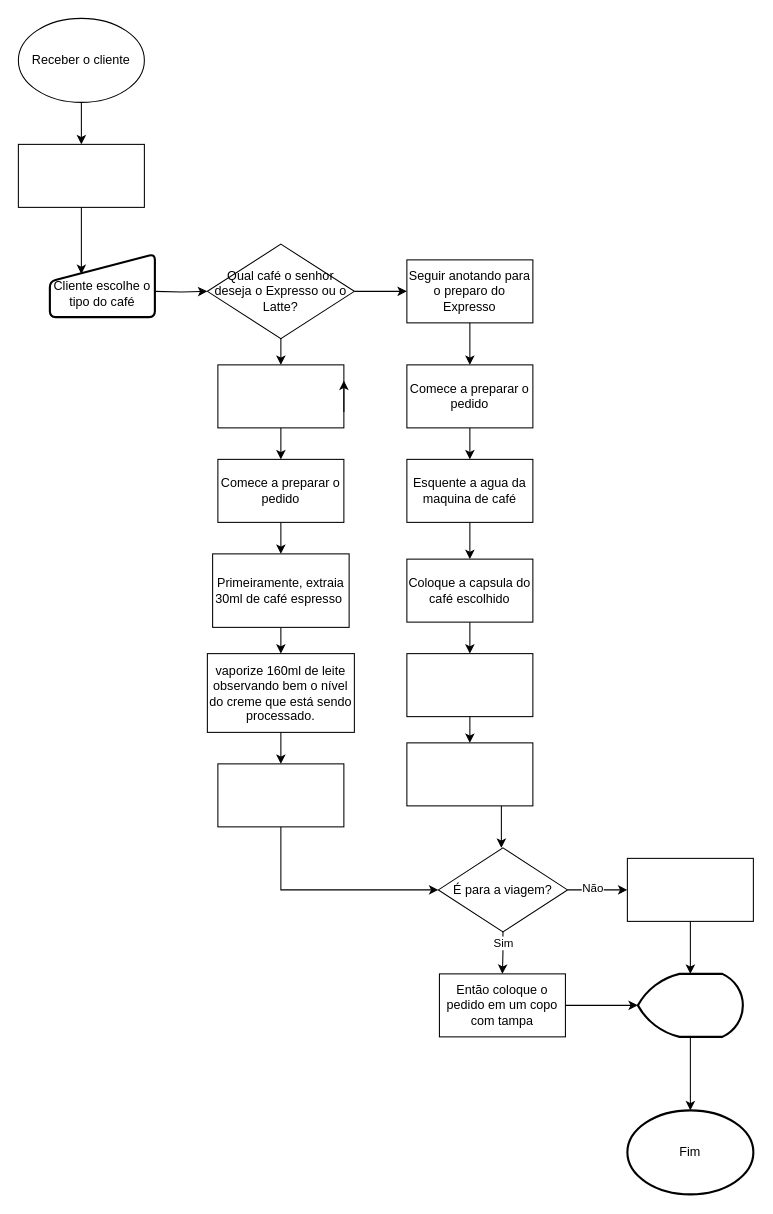
This 773x1214 diagram has some shape labels left out. Here are the shapes that lost their labels. From the top down, the centre of each, then its label:
the point at 80,175: Seja educado com o cliente
the point at 280,396: Seguir anotando para o preparo do Latte
the point at 469,685: Apertar o Botão de começar
the point at 469,774: espere a maquina despejar no recipiente
the point at 280,795: adicione o leite vaporizado sob o café expresso.
the point at 689,889: Então coloque em uma xicara
the point at 689,1004: Entregar para o Cliente
